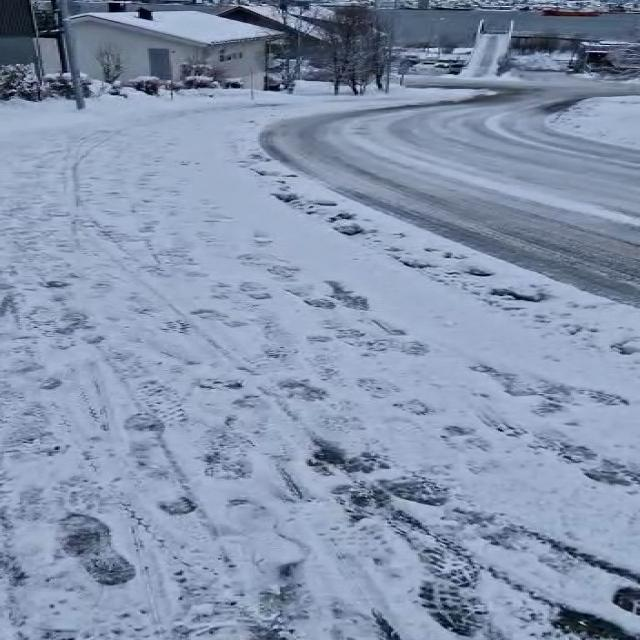path: (262, 73, 640, 304)
